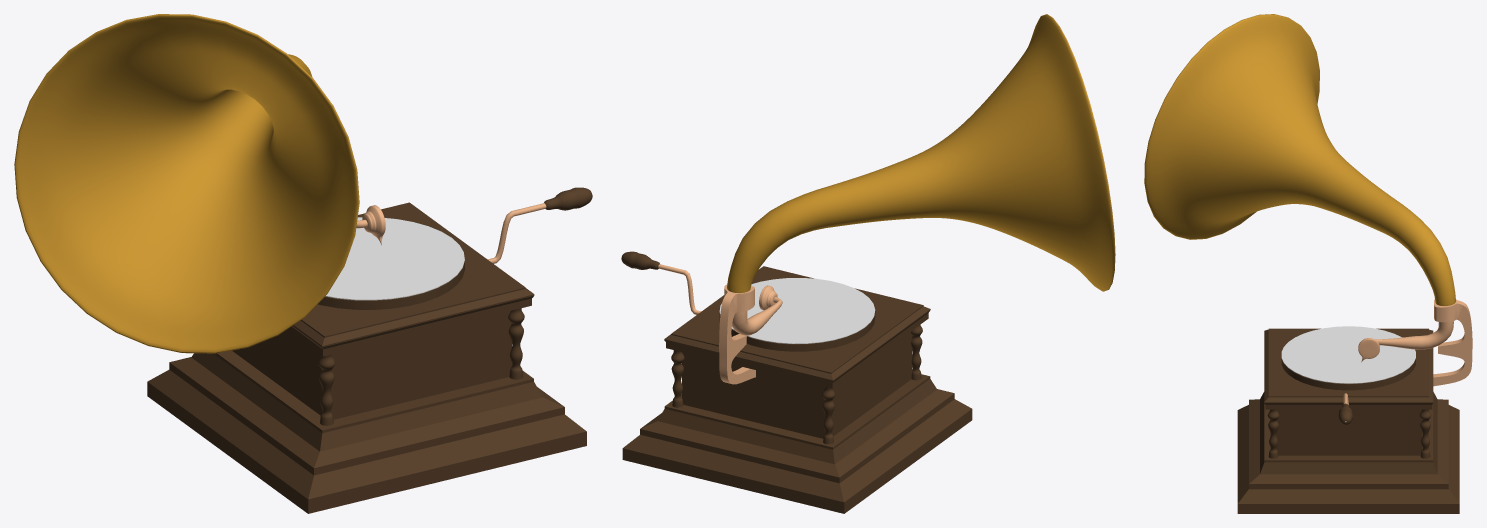
File: грамофон.FBX
3 renders of one model, left to right at view 1: azimuth 30°, elevation 25°; view 2: azimuth 150°, elevation 25°; view 3: azimuth 270°, elevation 25°, orthographic. The views are drawn at different scales.
Parts seen in each view (by area): view 1: грамофон, пластинка, ручка грамофона; view 2: грамофон, пластинка, ручка грамофона; view 3: грамофон, пластинка.
Boxes of the visible parts, left/top/right/bottom form: грамофон: left=14, top=14, right=586, bottom=513; пластинка: left=325, top=217, right=464, bottom=300; ручка грамофона: left=488, top=187, right=592, bottom=263; грамофон: left=622, top=14, right=1115, bottom=513; пластинка: left=719, top=278, right=875, bottom=343; ручка грамофона: left=621, top=251, right=701, bottom=314; грамофон: left=1144, top=14, right=1472, bottom=513; пластинка: left=1281, top=326, right=1415, bottom=383.
Size of the model in its own units: 769 by 647 by 531.
